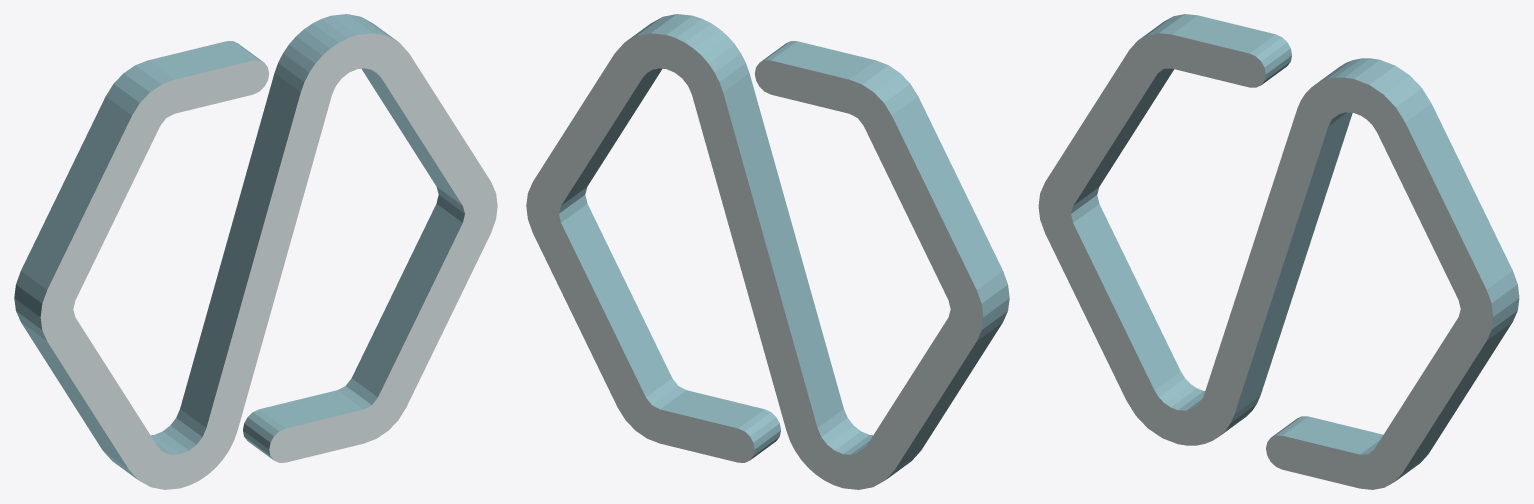
The model's file is codicon_agent_v01.glb.
3 renders of one model, left to right at view 1: azimuth 30°, elevation 25°; view 2: azimuth 150°, elevation 25°; view 3: azimuth 330°, elevation 25°, orthographic.
Visible parts, largest first — view 1: codicon_agent; view 2: codicon_agent; view 3: codicon_agent.
Part boxes in pixels (left/top/right/bottom): codicon_agent: left=14, top=14, right=497, bottom=489; codicon_agent: left=526, top=14, right=1009, bottom=489; codicon_agent: left=1038, top=14, right=1519, bottom=489.
Bounding box in the file's own units: 0.6 × 0.5146 × 0.06.
1 material, 1 textured.
